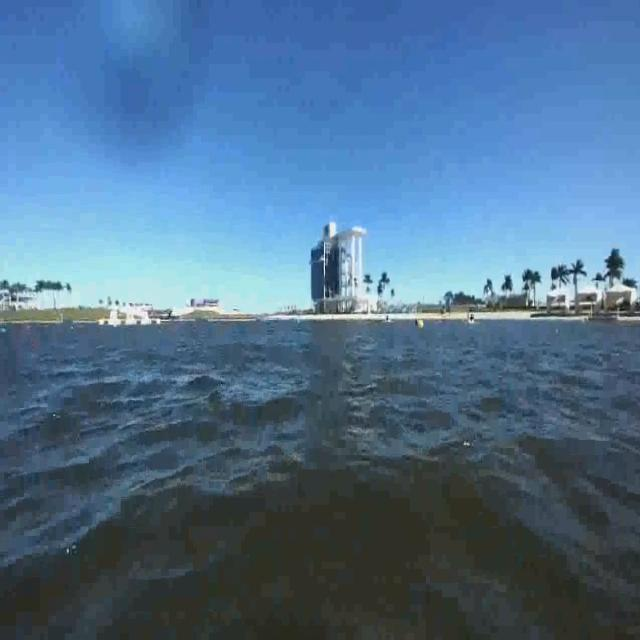yellow-buoy: (418, 318, 424, 330)
